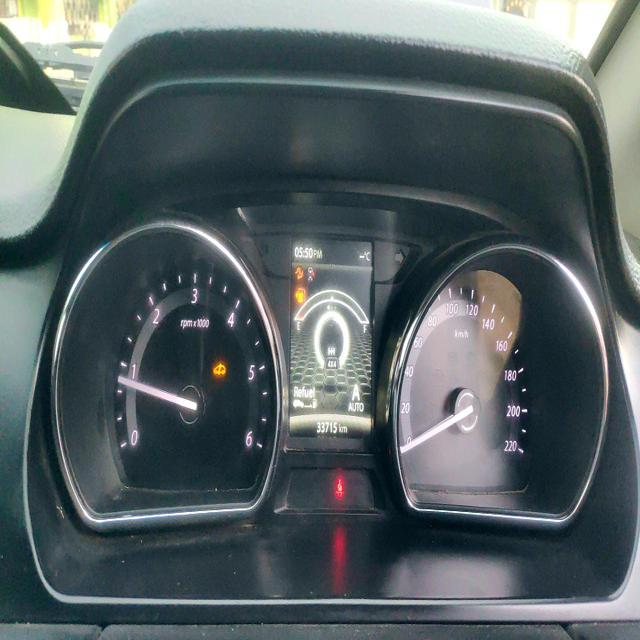odometer: (313, 419, 341, 439)
